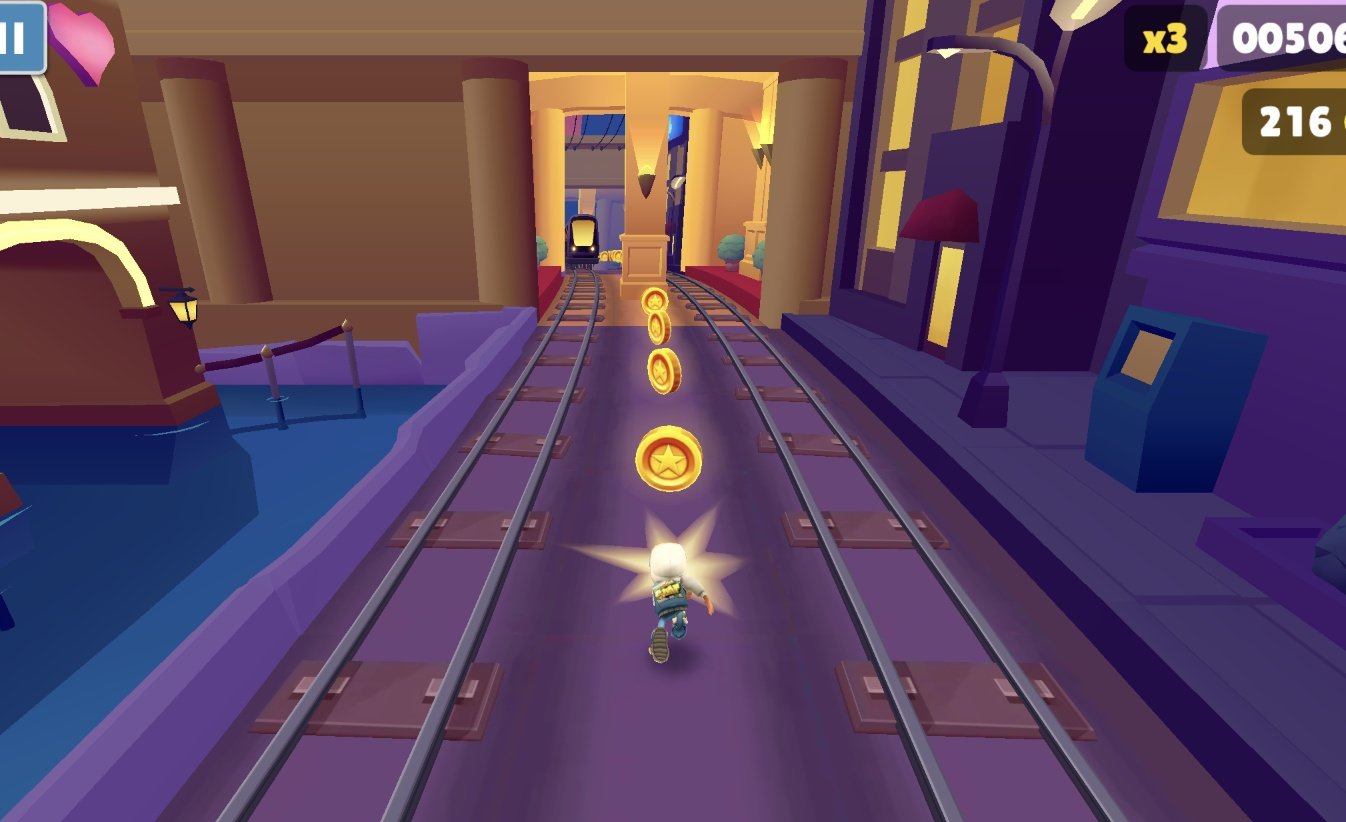pillar: (620, 74, 672, 290)
train: (564, 212, 600, 270)
